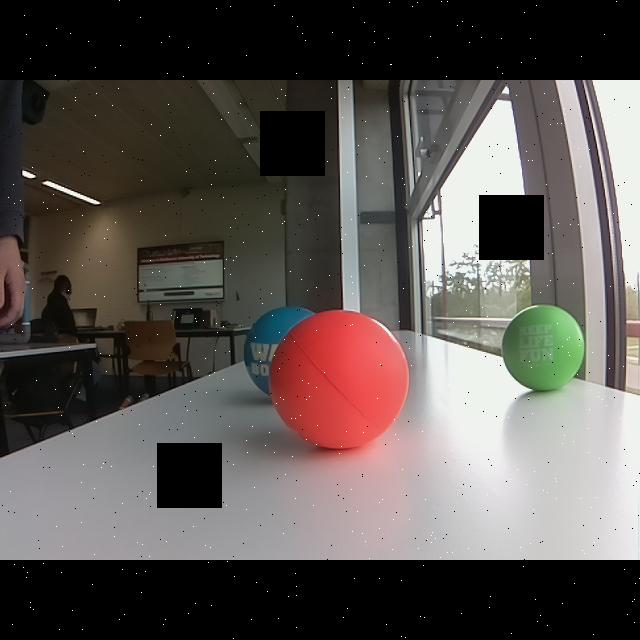ball: (268, 308, 410, 450)
